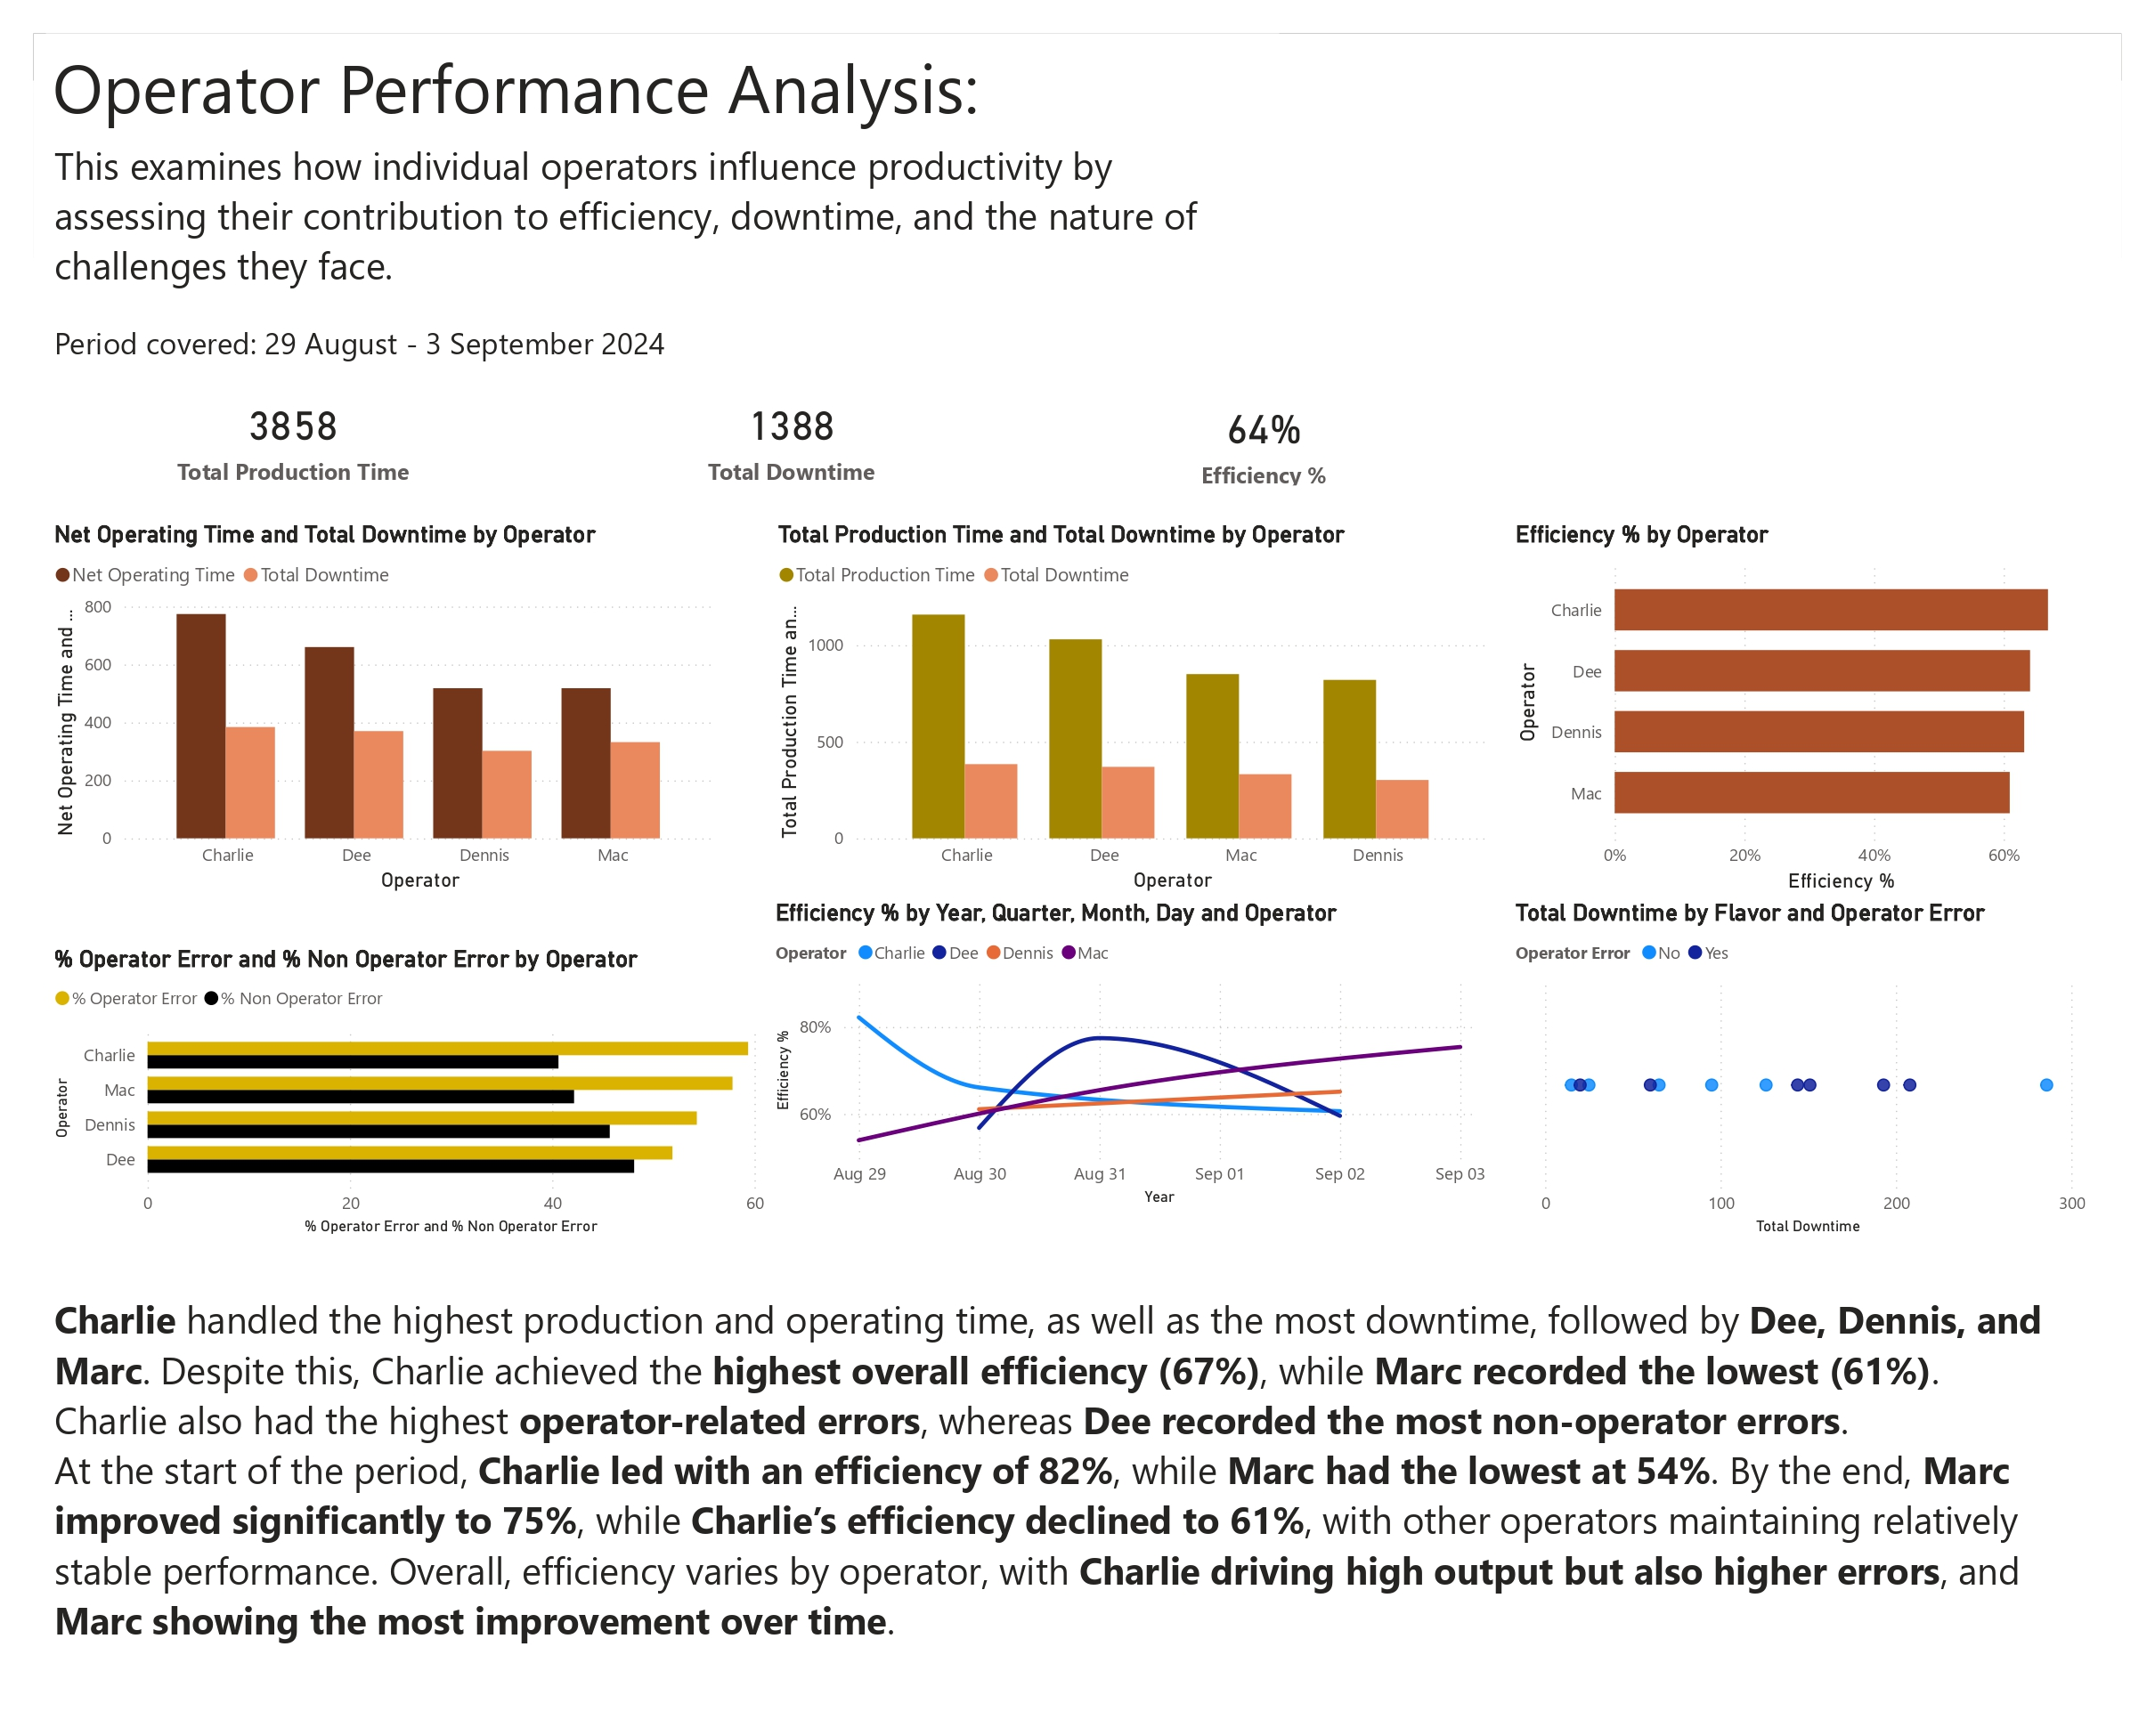

What the dashboard file says about the page in this screenshot:
{"tool":"powerbi","page":{"name":"Who is Driving Efficiency or Delays","canvas":[1500,1200],"ordinal":2},"visuals":[{"type":"textbox","box":[9.1,0,885.4,84.1],"z":0},{"type":"textbox","box":[9.1,69.5,885.4,146.3],"z":1000},{"type":"textbox","box":[10.1,203,885.4,53.3],"z":2000},{"type":"card","fields":{"Values":["Downtime factors.Total Production Time"]},"box":[10.1,253.7,352.6,73.6],"z":3000},{"type":"card","fields":{"Values":["Downtime factors.Total Downtime"]},"box":[362.8,253.7,362.8,73.6],"z":4000},{"type":"card","fields":{"Values":["Downtime factors.Efficiency %"]},"box":[690.1,256.2,388.2,73.6],"z":5000},{"type":"card","fields":{"Values":["Downtime factors.% Operator Error"]},"box":[1078.2,251.2,380.5,76.1],"z":6000},{"type":"clusteredColumnChart","fields":{"Category":["Line productivity.Operator"],"Y":["Downtime factors.Net Operating Time","Downtime factors.Total Downtime"]},"box":[10.1,350.1,484.6,271.5],"z":7000},{"type":"clusteredColumnChart","fields":{"Category":["Line productivity.Operator"],"Y":["Downtime factors.Total Production Time","Downtime factors.Total Downtime"]},"box":[530.2,350.1,520.1,271.5],"z":8000},{"type":"clusteredBarChart","fields":{"Category":["Line productivity.Operator"],"Y":["Downtime factors.Efficiency %"]},"box":[1060.5,350.1,418.6,271.5],"z":9000},{"type":"clusteredBarChart","fields":{"Category":["Line productivity.Operator"],"Y":["Downtime factors.% Operator Error","Downtime factors.% Non Operator Error"]},"box":[10.1,654.5,520.1,213.1],"z":10000},{"type":"scatterChart","fields":{"X":["Downtime factors.Total Downtime"],"Category":["Products.Flavor"],"Series":["Downtime factors.Operator Error"]},"box":[1060.5,621.6,418.6,246.1],"z":11000},{"type":"lineChart","fields":{"Category":["Line productivity.Date.Variation.Date Hierarchy.Year","Line productivity.Date.Variation.Date Hierarchy.Quarter","Line productivity.Date.Variation.Date Hierarchy.Month","Line productivity.Date.Variation.Date Hierarchy.Day"],"Series":["Line productivity.Operator"],"Y":["Downtime factors.Efficiency %"]},"box":[527.7,621.6,520.1,225.8],"z":13000},{"type":"textbox","box":[10.1,900.6,1468.9,281.6],"z":14000}]}

Visuals, with their boxes on the page's 1500x1200 design canvas (x1, y1, x2, y2). These are canvas units, not pixel positions in the 2155x1736 screenshot, which may show the page scaled, cropped or inside an application window:
textbox: {"x1": 9, "y1": 0, "x2": 894, "y2": 84}
textbox: {"x1": 9, "y1": 70, "x2": 894, "y2": 216}
textbox: {"x1": 10, "y1": 203, "x2": 896, "y2": 256}
card - Downtime factors.Total Production Time: {"x1": 10, "y1": 254, "x2": 363, "y2": 327}
card - Downtime factors.Total Downtime: {"x1": 363, "y1": 254, "x2": 726, "y2": 327}
card - Downtime factors.Efficiency %: {"x1": 690, "y1": 256, "x2": 1078, "y2": 330}
card - Downtime factors.% Operator Error: {"x1": 1078, "y1": 251, "x2": 1459, "y2": 327}
clusteredColumnChart - Line productivity.Operator x Downtime factors.Net Operating Time: {"x1": 10, "y1": 350, "x2": 495, "y2": 622}
clusteredColumnChart - Line productivity.Operator x Downtime factors.Total Production Time: {"x1": 530, "y1": 350, "x2": 1050, "y2": 622}
clusteredBarChart - Line productivity.Operator x Downtime factors.Efficiency %: {"x1": 1060, "y1": 350, "x2": 1479, "y2": 622}
clusteredBarChart - Line productivity.Operator x Downtime factors.% Operator Error: {"x1": 10, "y1": 654, "x2": 530, "y2": 868}
scatterChart - Downtime factors.Total Downtime x Products.Flavor: {"x1": 1060, "y1": 622, "x2": 1479, "y2": 868}
lineChart - Line productivity.Date.Variation.Date Hierarchy.Year x Line productivity.Date.Variation.Date Hierarchy.Quarter: {"x1": 528, "y1": 622, "x2": 1048, "y2": 847}
textbox: {"x1": 10, "y1": 901, "x2": 1479, "y2": 1182}
